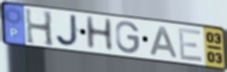A: (149, 25, 180, 60)
E: (177, 27, 205, 64)
G: (115, 20, 141, 55)
H: (23, 6, 56, 49), (84, 15, 116, 52)
J: (54, 14, 81, 48)
